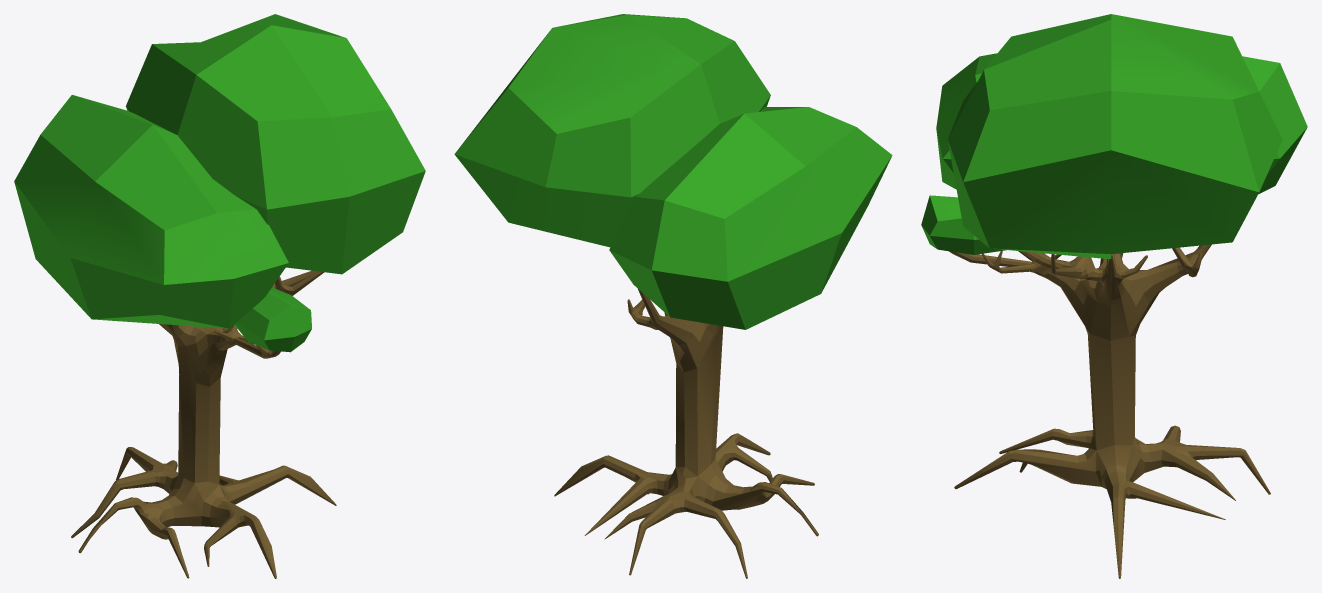
Rendered from arbol corregido.fbx.
3 renders of one model, left to right at view 1: azimuth 30°, elevation 25°; view 2: azimuth 150°, elevation 25°; view 3: azimuth 270°, elevation 25°, orthographic. The views are drawn at different scales.
Visible parts, largest first — view 1: tronco; view 2: tronco; view 3: tronco.
Part boxes in pixels (box(x1,y1,x2,y2)): tronco: box(14, 14, 425, 578); tronco: box(454, 14, 892, 578); tronco: box(921, 14, 1307, 578).
Bounding box in the file's own units: 855 × 1311 × 873.
